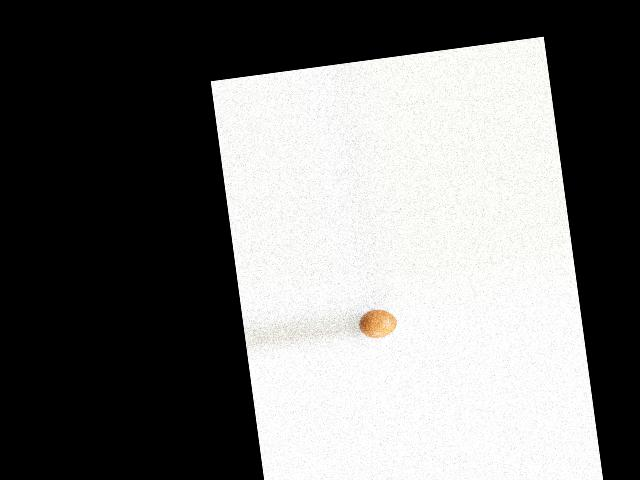egg: (356, 306, 398, 339)
